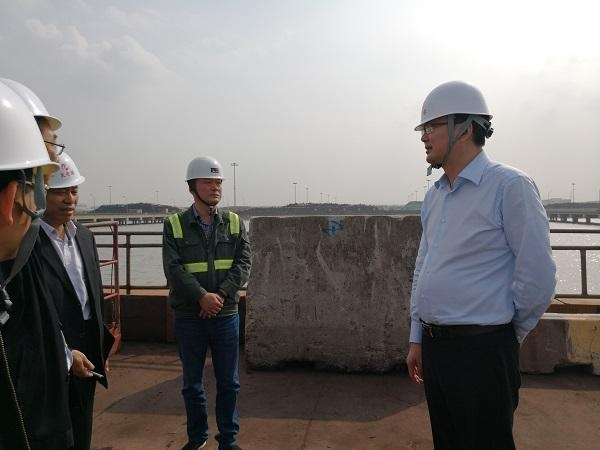white: (412, 77, 495, 179), (1, 84, 44, 262), (41, 148, 80, 226), (183, 153, 227, 208)
